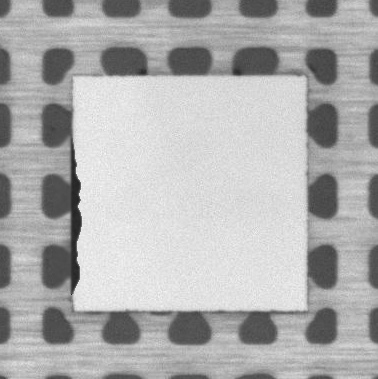DIE_BROKEN: (68, 136, 85, 296)
